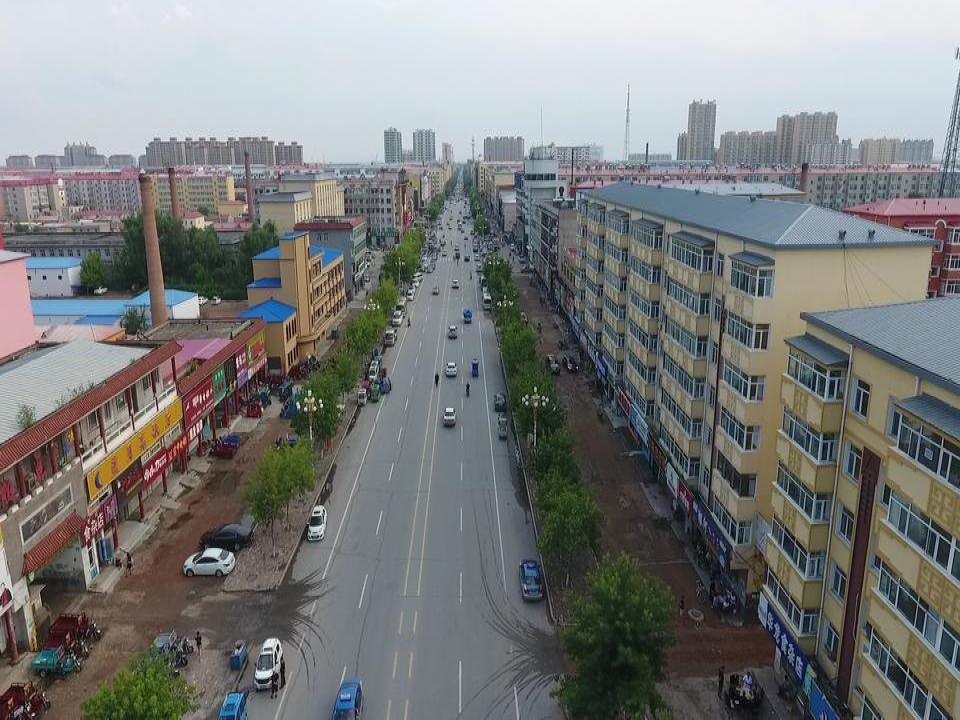bus: (396, 296, 407, 316), (482, 290, 491, 310)
car: (184, 548, 236, 577), (255, 637, 283, 688), (332, 677, 365, 720), (201, 521, 255, 547), (519, 558, 544, 602), (306, 505, 327, 538), (442, 406, 456, 425), (497, 416, 508, 440), (563, 354, 579, 370), (546, 354, 559, 373), (445, 360, 458, 377), (384, 330, 396, 346), (494, 392, 505, 409), (448, 324, 457, 339), (331, 325, 339, 339), (413, 269, 424, 279), (409, 280, 419, 287), (451, 278, 459, 286), (407, 291, 414, 300), (433, 284, 439, 293)
truck: (369, 359, 378, 381), (464, 307, 472, 321)
van: (392, 308, 403, 327)
